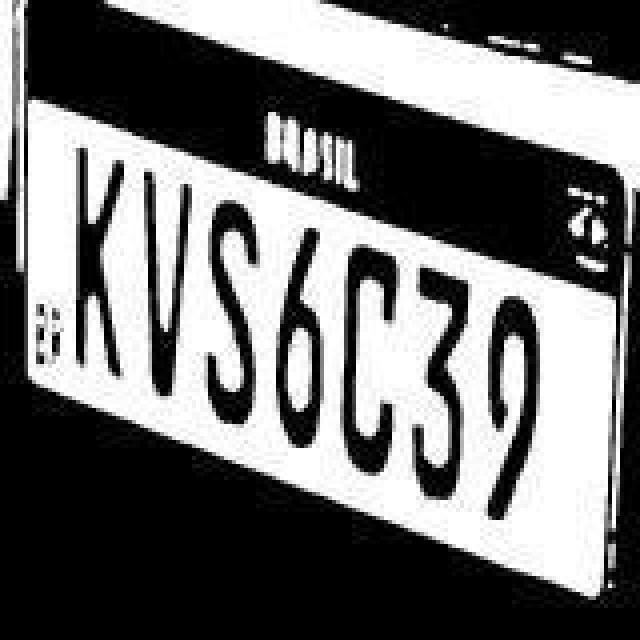3: (404, 264, 476, 504)
6: (270, 218, 330, 454)
9: (488, 292, 552, 532)
C: (338, 240, 414, 472)
K: (60, 132, 132, 388)
S: (198, 200, 266, 440)
V: (122, 162, 198, 414)
